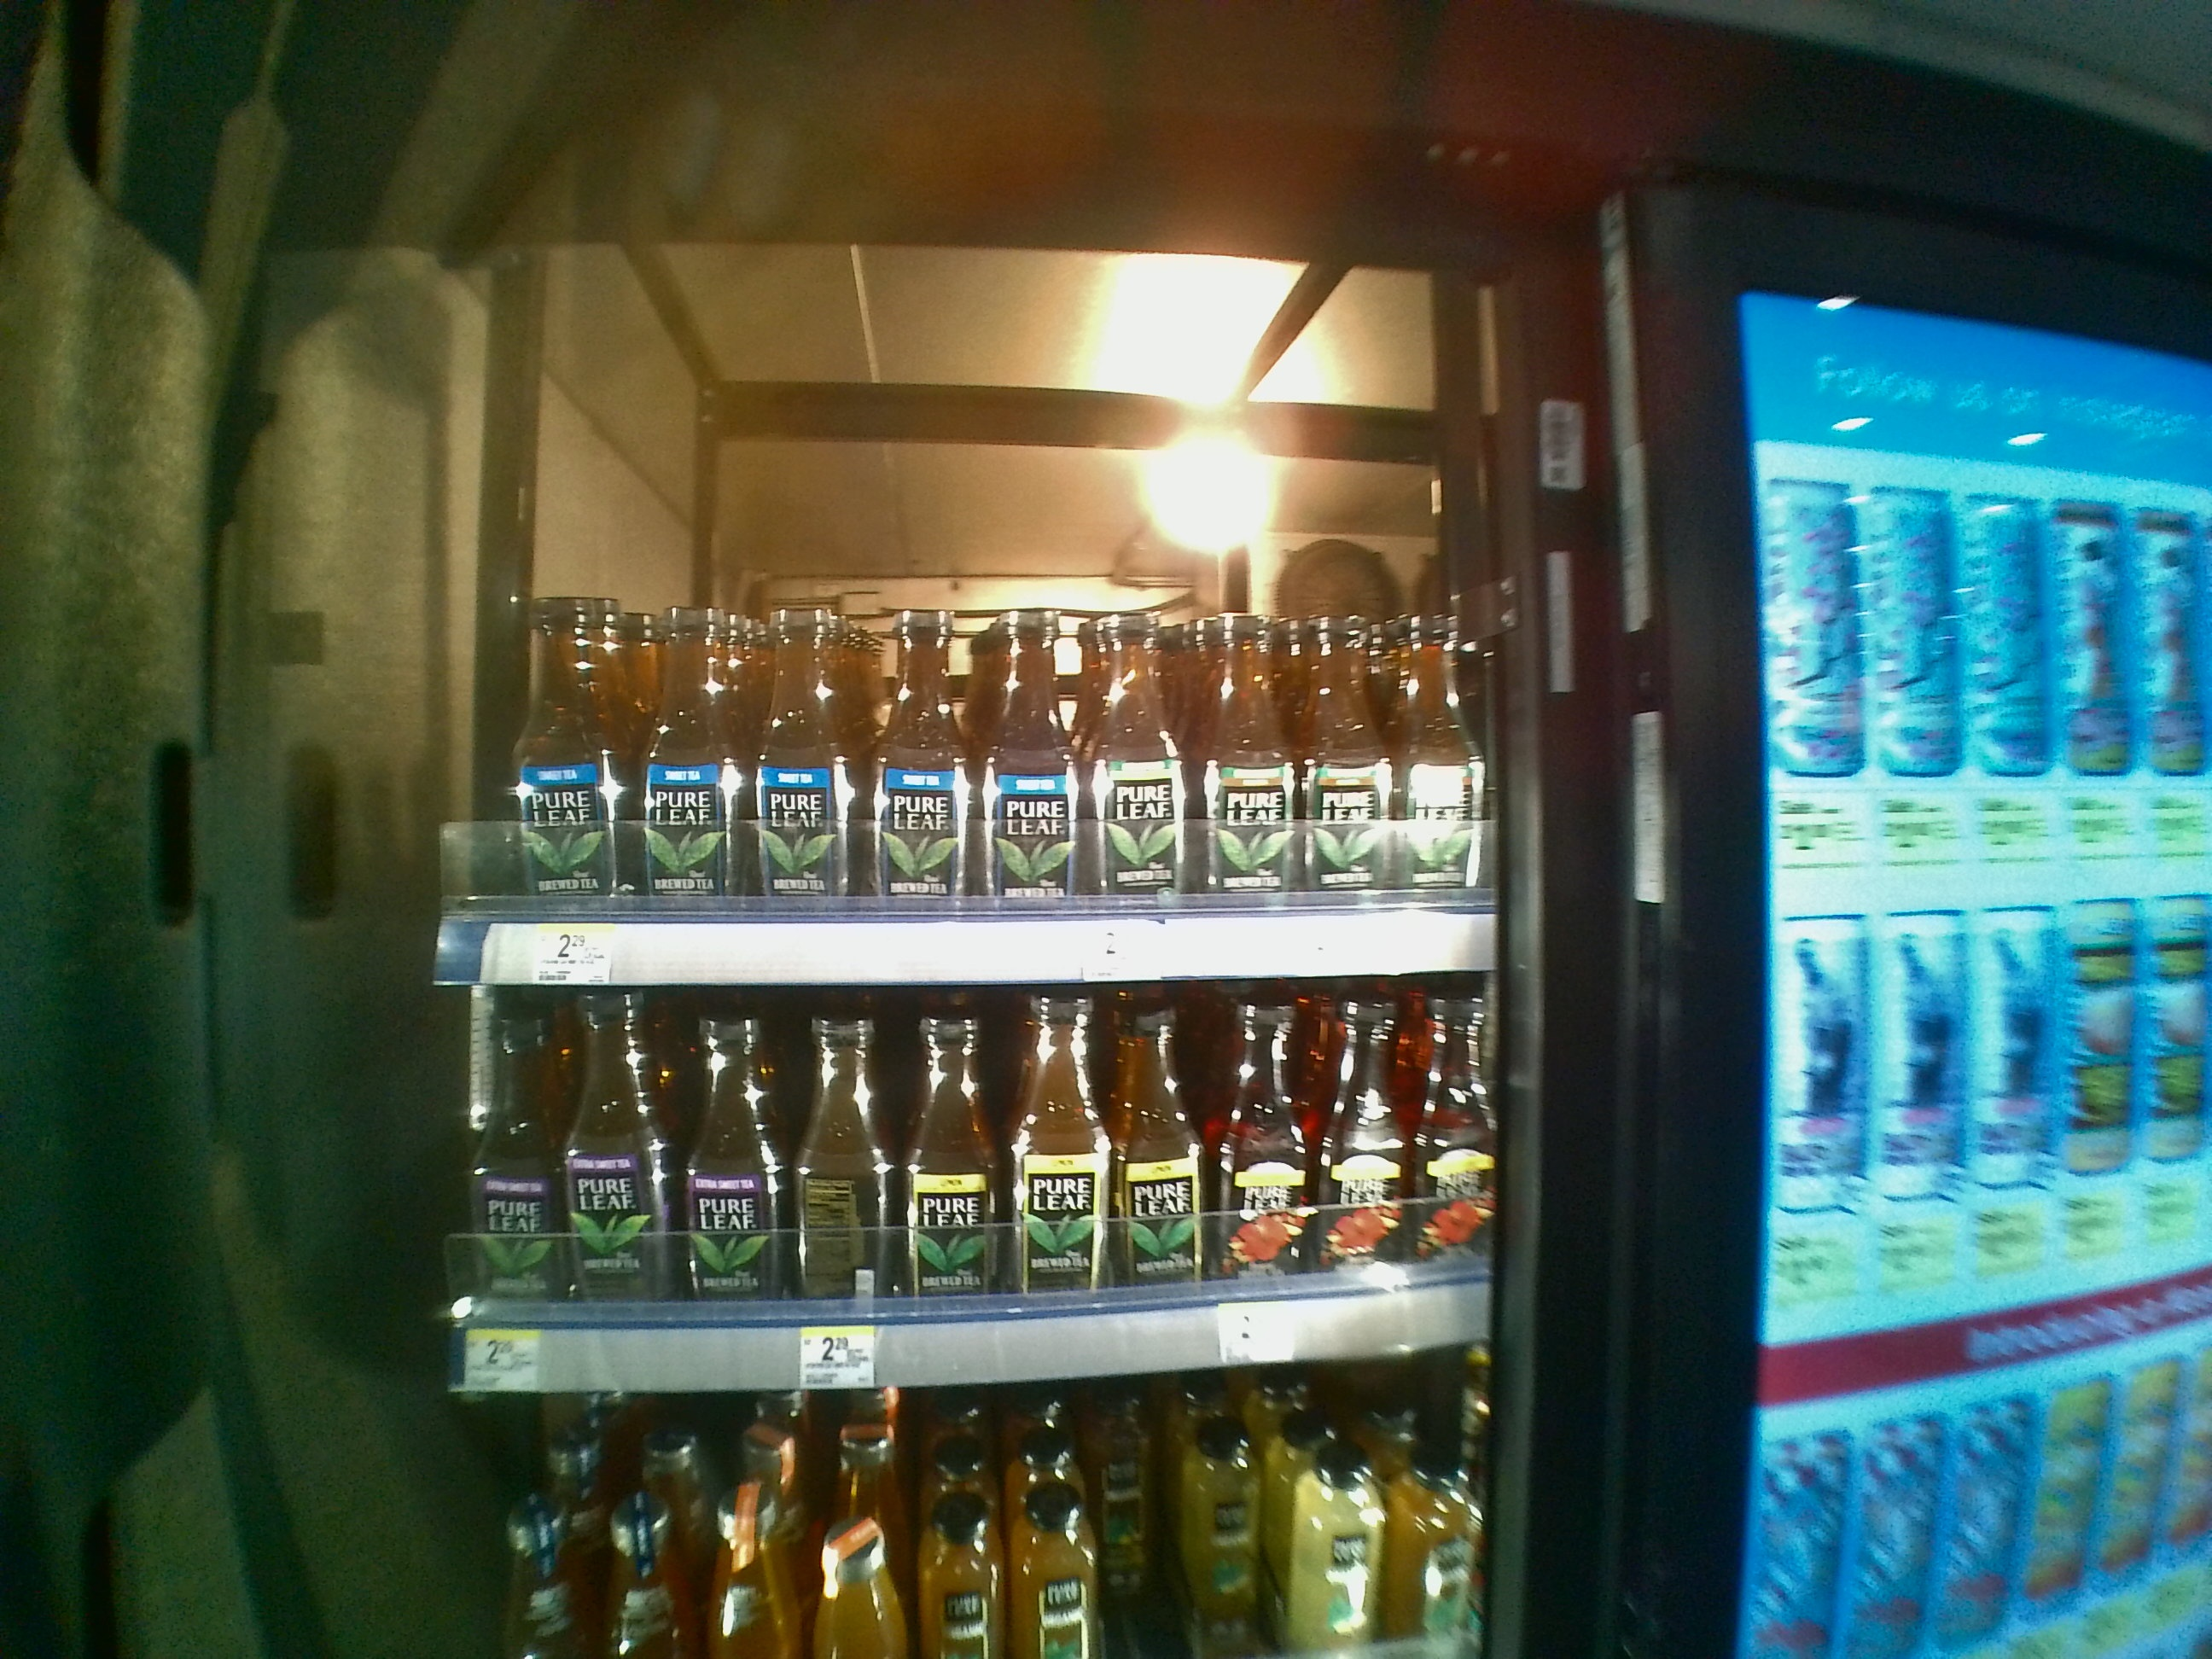shelf: (435, 436, 1498, 985), (434, 1000, 1503, 1417)
